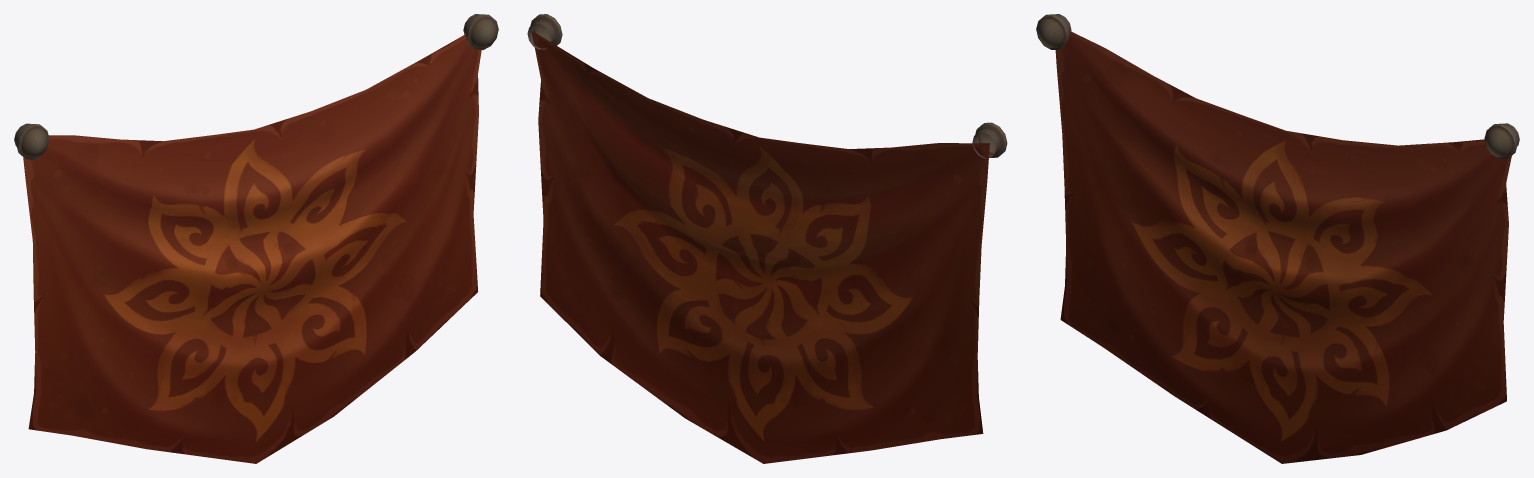
Rendered from Flag.FBX.
3 views of the same model, side by side, from view 1: azimuth 30°, elevation 25°; view 2: azimuth 150°, elevation 25°; view 3: azimuth 330°, elevation 25° (orthographic).
Visible parts, largest first — view 1: Flag; view 2: Flag; view 3: Flag.
Boxes of the visible parts, box(x1,y1,x2,y2) form: Flag: box(14, 14, 498, 463); Flag: box(527, 14, 1007, 463); Flag: box(1036, 14, 1519, 463).
Size of the model in its own units: 1356 by 1071 by 72.5.
